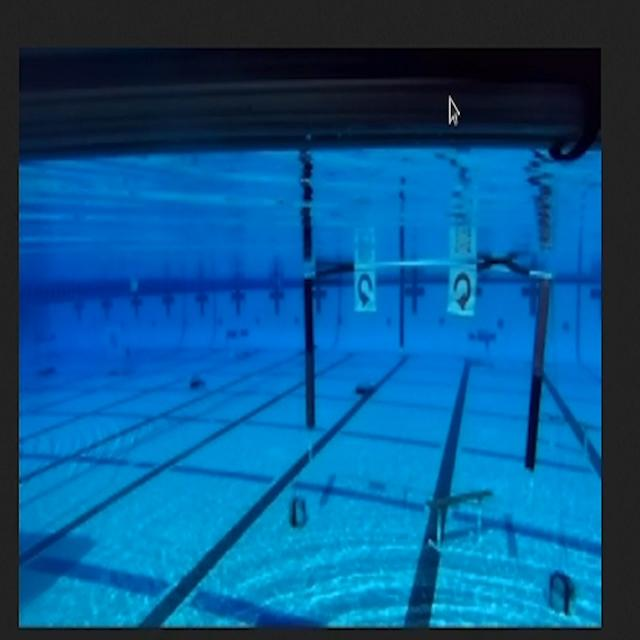Gate: (291, 247, 562, 491)
Path: (420, 476, 498, 562)
